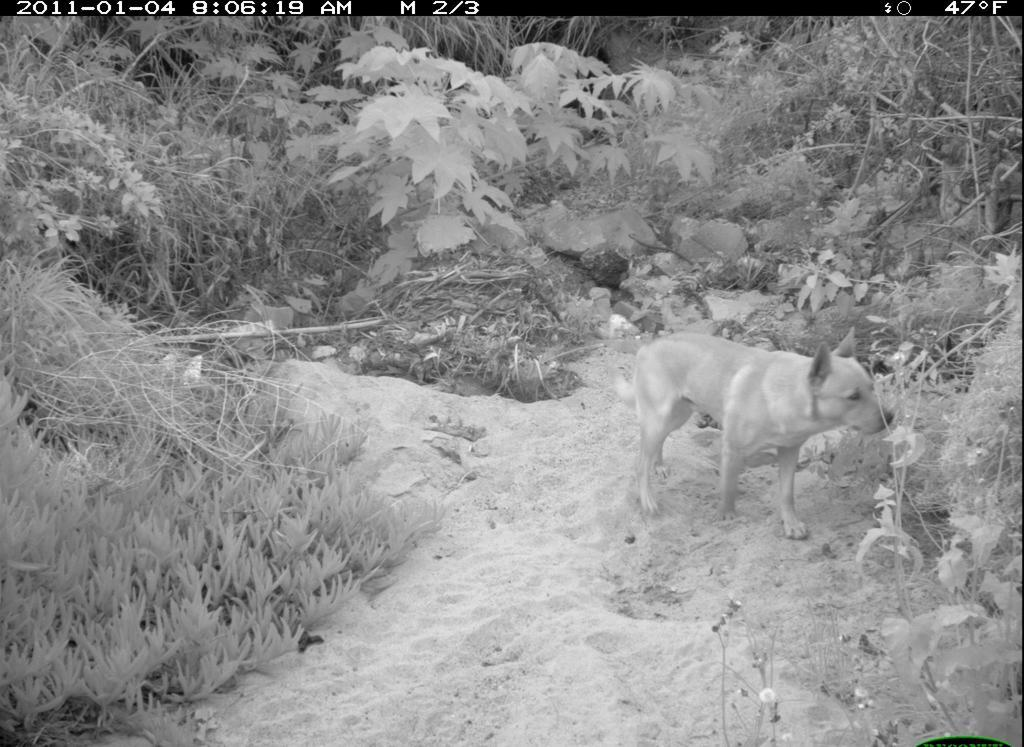dog: (600, 315, 899, 547)
